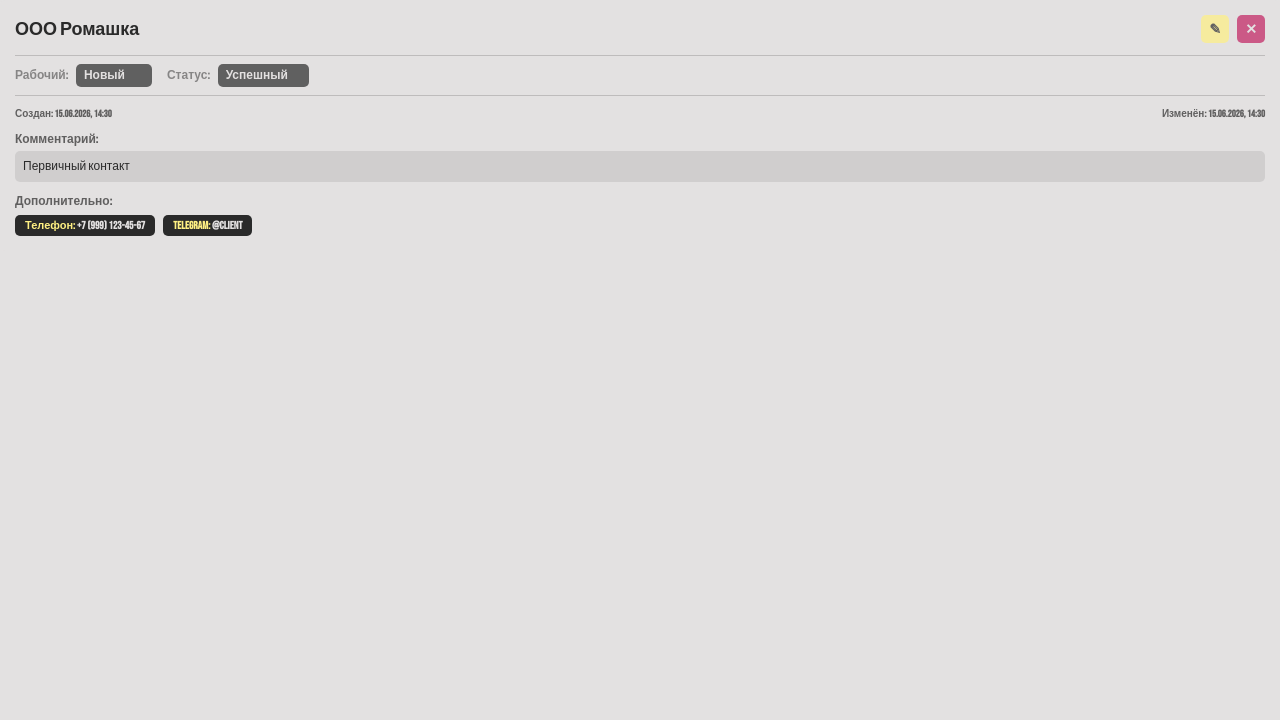
Test: ClientCard › редактирование › переключается в режим редактирования при клике на ✎
This screenshot has width=1280, height=720.
Click the button "✎". click: (1215, 29)
box: 1201,15 -> 1229,43
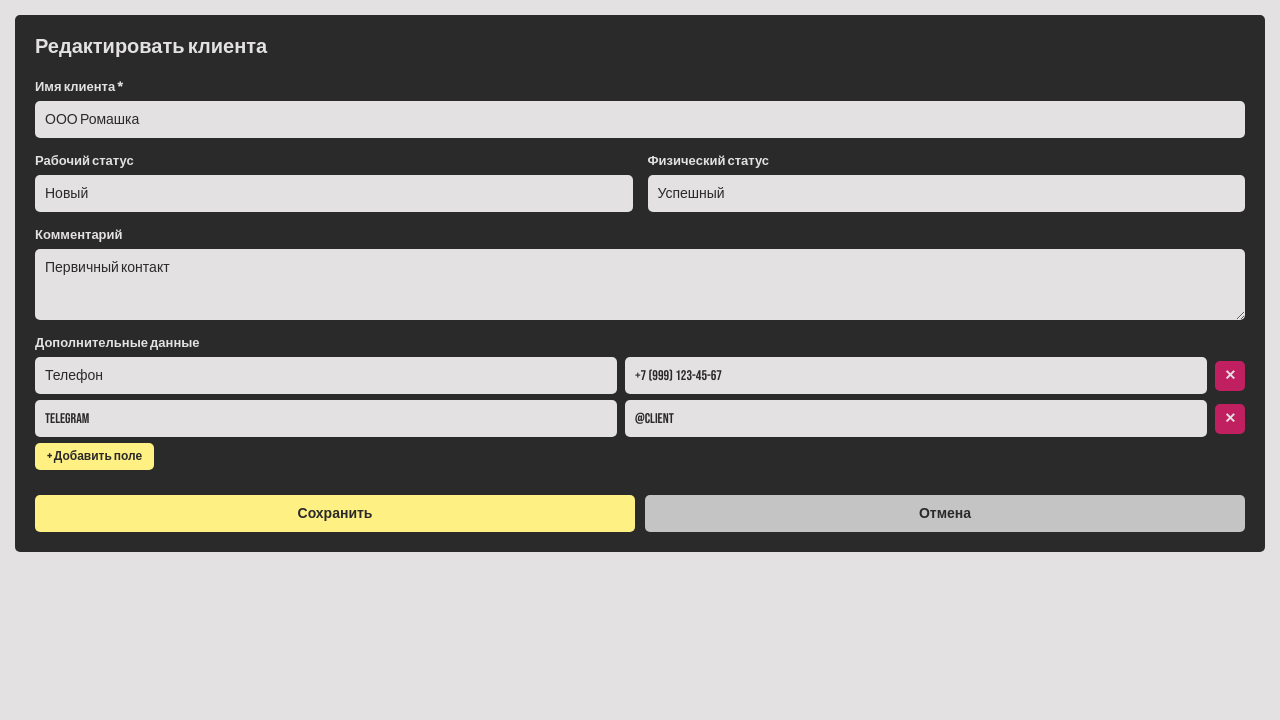
Check: the heading "Редактировать клиента" is shown, box 35,35 -> 267,59
